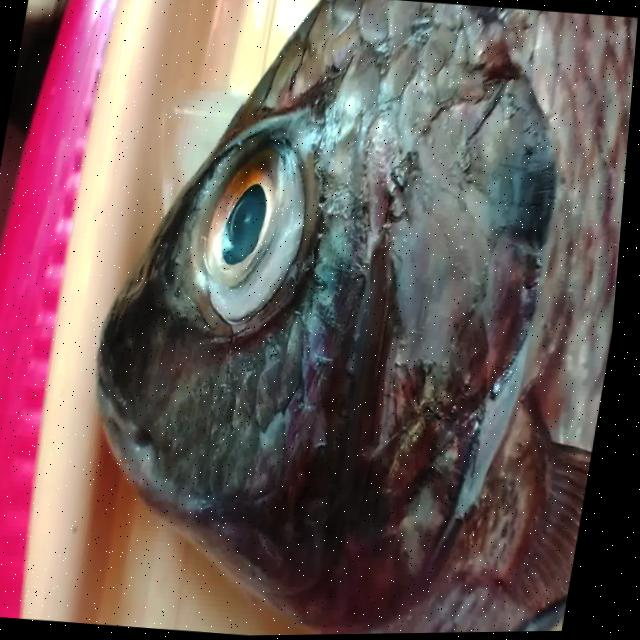Fresh: (165, 106, 343, 359)
